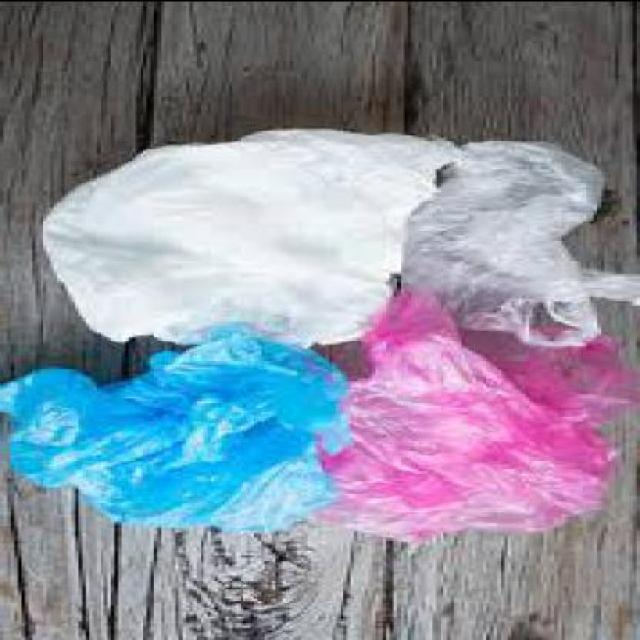PLASTIC: (43, 130, 468, 352), (322, 283, 638, 543), (4, 327, 358, 531), (408, 140, 638, 348)
